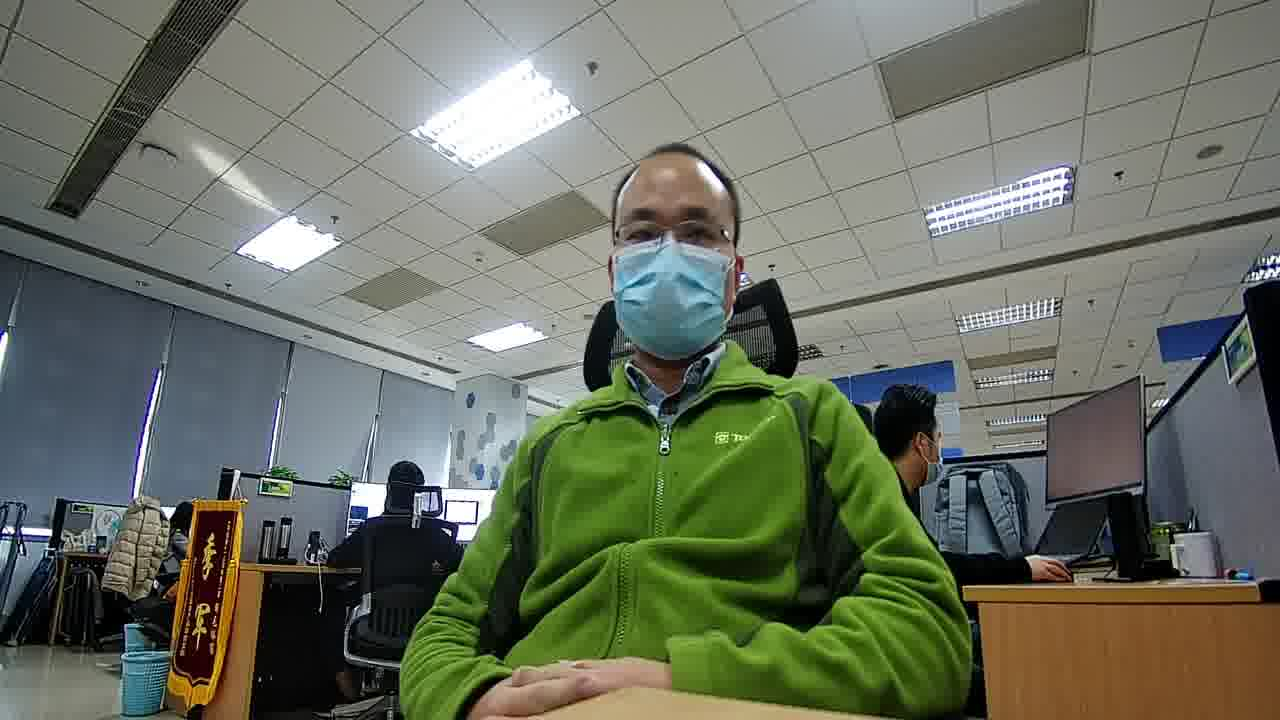face: (613, 171, 732, 360)
mask: (609, 234, 729, 360)
person: (521, 132, 839, 450), (843, 368, 964, 549), (363, 457, 445, 537), (163, 493, 195, 542)
